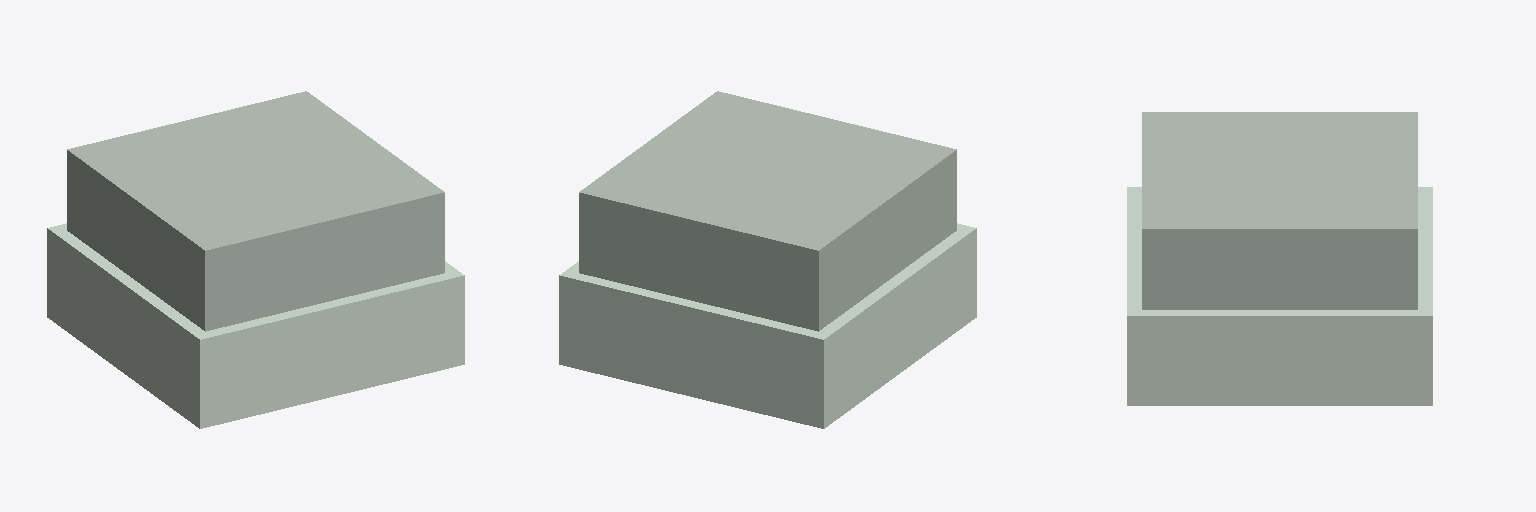
Rendered from tile_044.obj.
The picture shows the model from 3 angles: view 1: azimuth 30°, elevation 25°; view 2: azimuth 150°, elevation 25°; view 3: azimuth 270°, elevation 25°; orthographic projection.
Parts seen in each view (by area): view 1: tile_044; view 2: tile_044; view 3: tile_044.
Boxes of the visible parts, <box> form: tile_044: <box>47,91,464,428</box>; tile_044: <box>559,91,976,428</box>; tile_044: <box>1127,112,1432,405</box>.
Size of the model in its own units: 0.651 by 0.4 by 0.651.